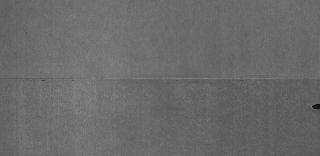punching hole: (307, 102, 319, 110)
silk spot: (6, 86, 314, 156)
welding line: (1, 72, 319, 85)
